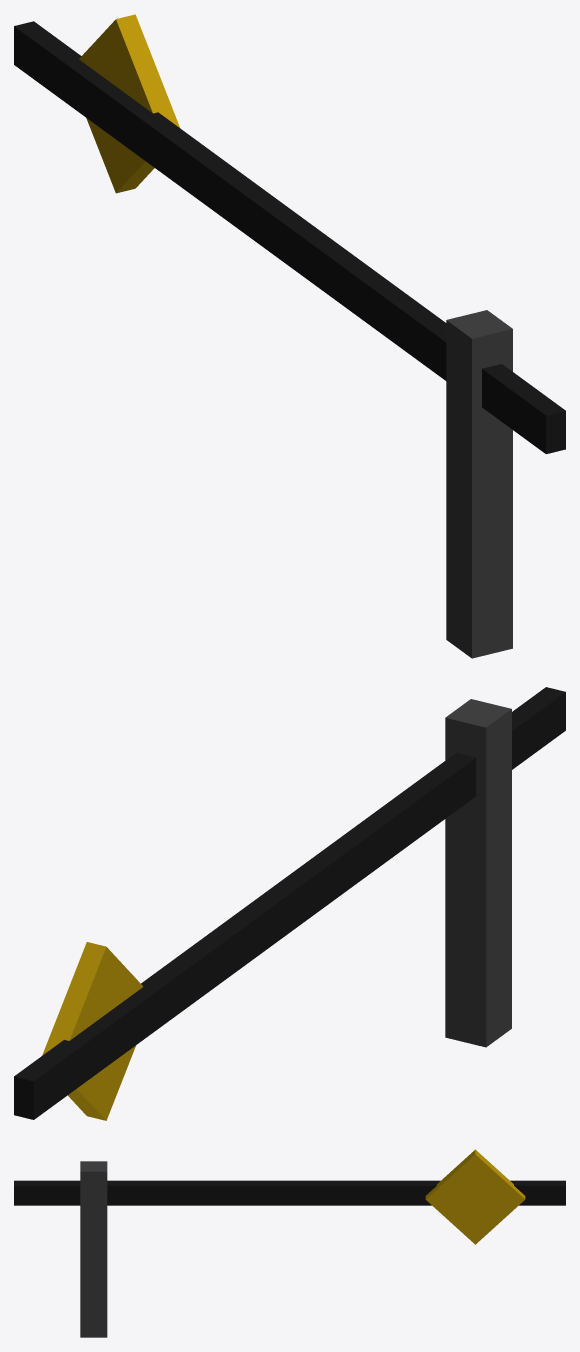
Rendered from Barrera.FBX.
3 views of the same model, one above another, from view 1: azimuth 30°, elevation 25°; view 2: azimuth 150°, elevation 25°; view 3: azimuth 270°, elevation 25° (orthographic). The views are drawn at different scales.
Visible parts, largest first — view 1: Barrera; view 2: Barrera; view 3: Barrera.
Boxes of the visible parts, box(x1,y1,x2,y2) form: Barrera: box(14, 14, 565, 658); Barrera: box(14, 687, 565, 1120); Barrera: box(14, 1149, 565, 1337).
Bounding box in the file's own units: 86.81 × 664 × 1806.
